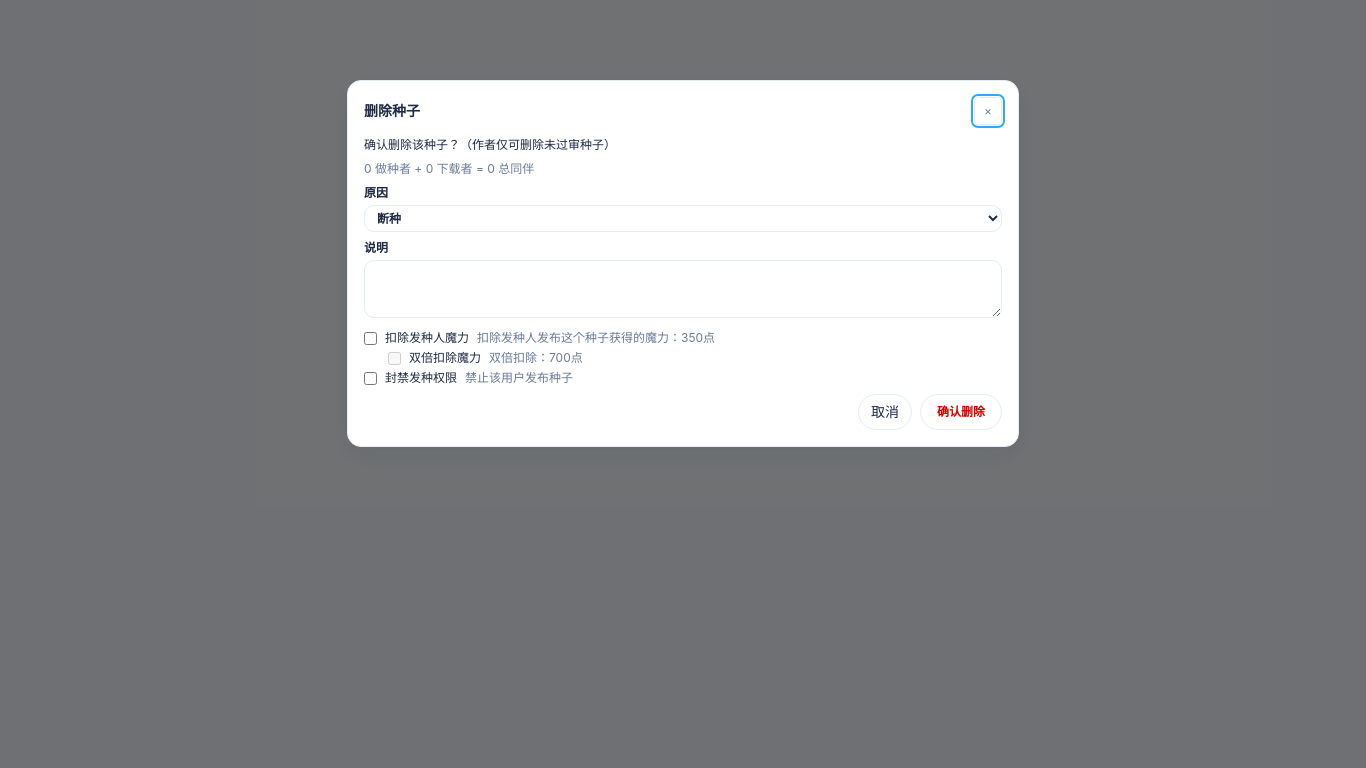
Test: 站方删除表单（渲染层） › 后端拒单（400）时弹窗不关、原因照抄给用户
Expected: the dialog "删除种子" shows "0 做种者 + 0 下载者 = 0 总同伴", [364,161,534,176]
# 前端必填联动放行后，仍会被后端那一层拒（这里演的就是这一层）
Select "断种" in the dropdown labelled "原因" at (683, 218), box [364,205,1002,232]
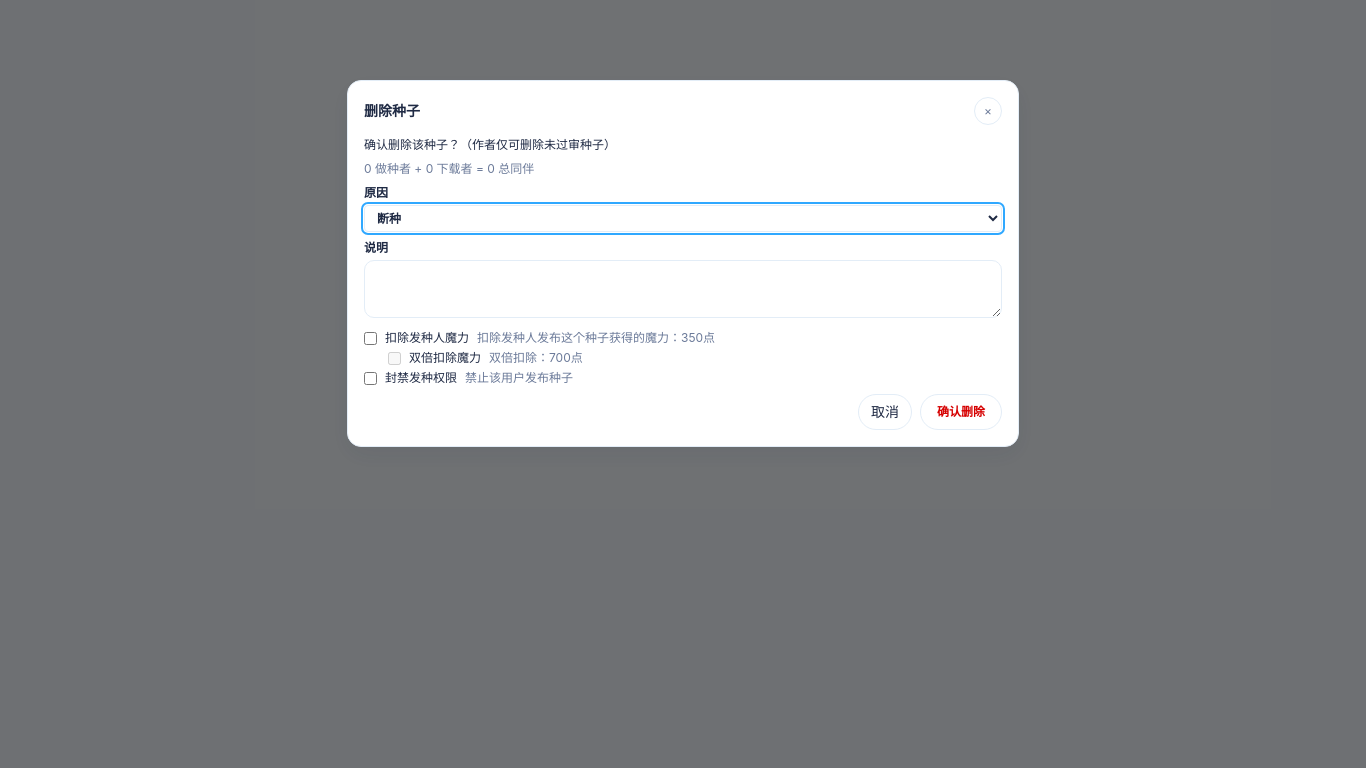
Type "断种" into the text box labelled "说明" at (683, 289), box [364,260,1002,318]
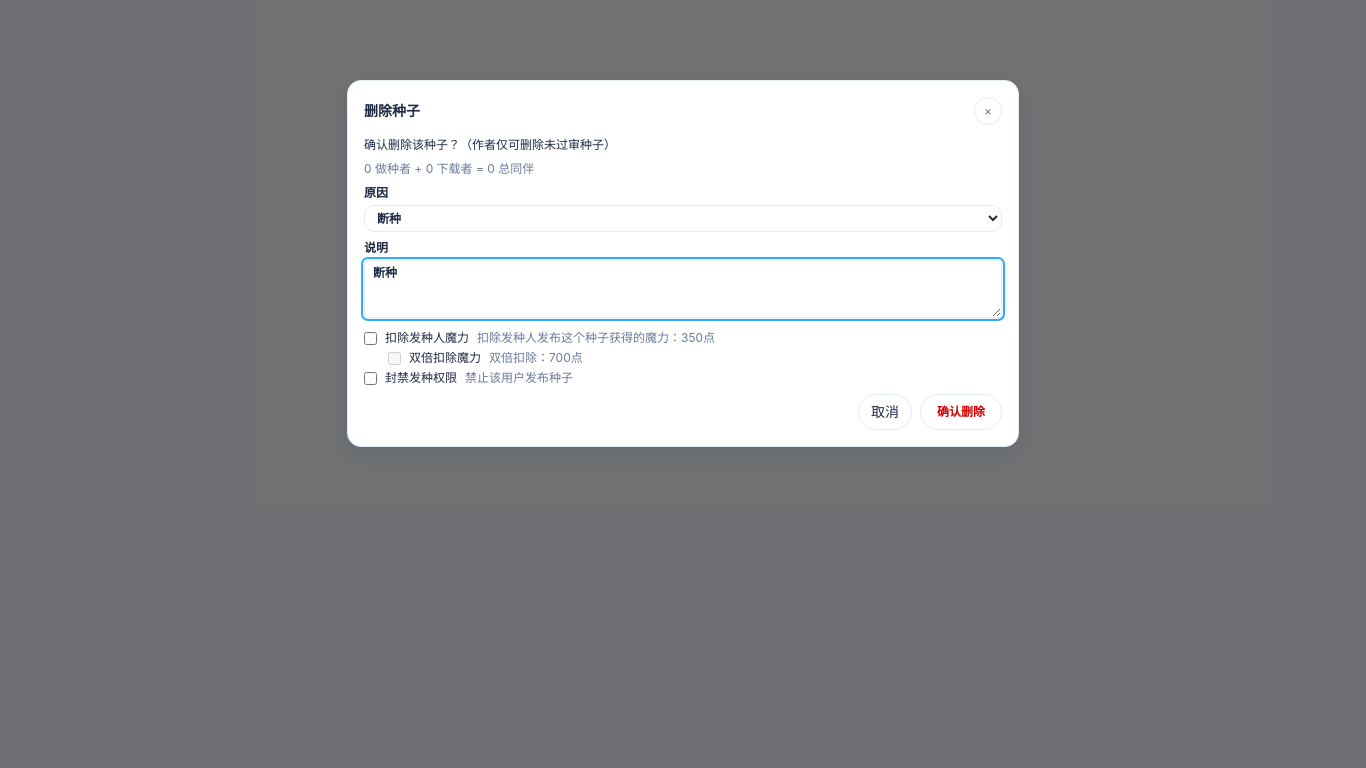
Click the button "确认删除" at (961, 412), box [920,394,1002,430]
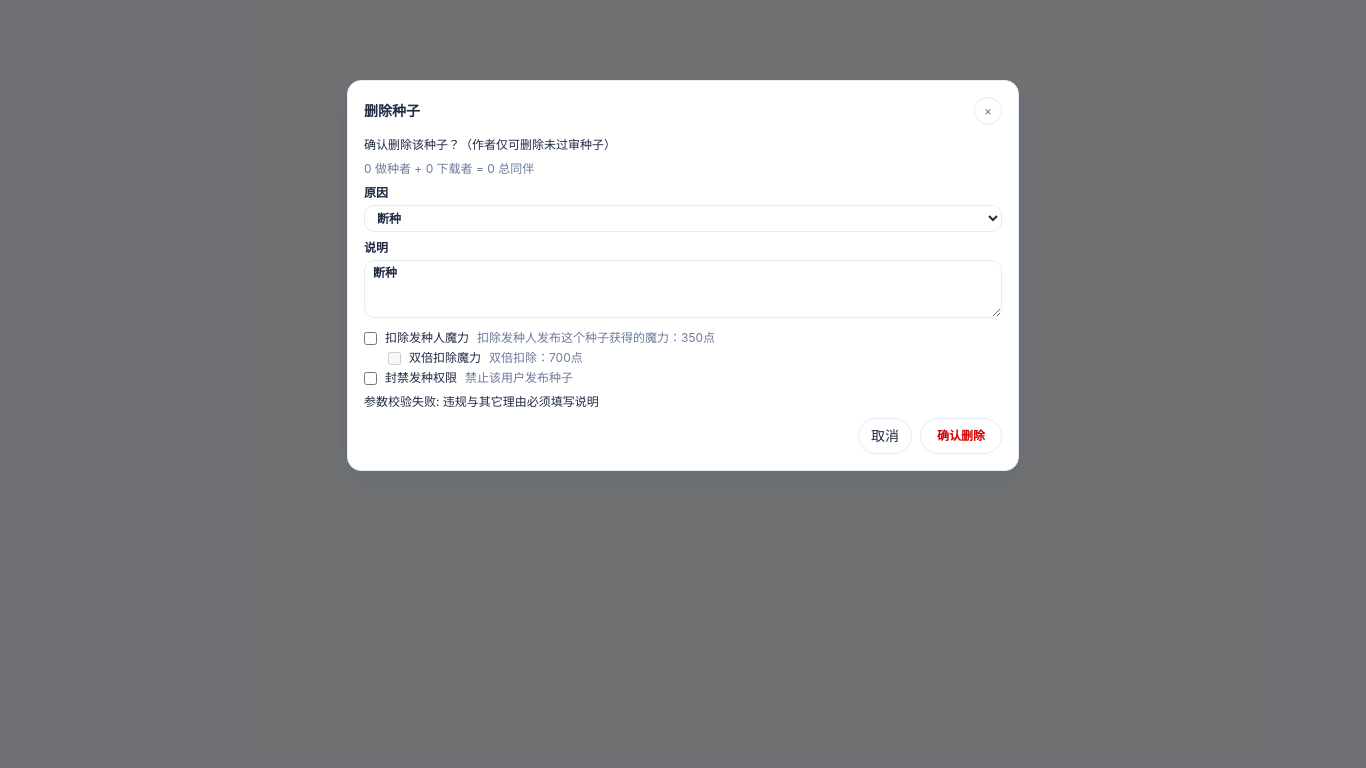
Expected: the dialog "删除种子" shows "违规与其它理由必须填写说明", [364,394,599,409]
